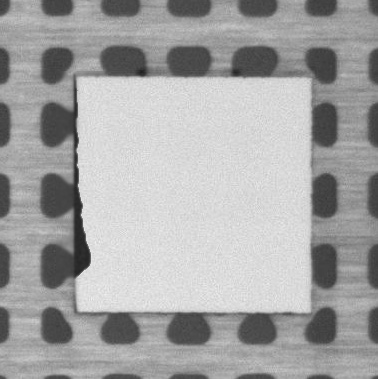DIE_BROKEN: (71, 75, 93, 280)
